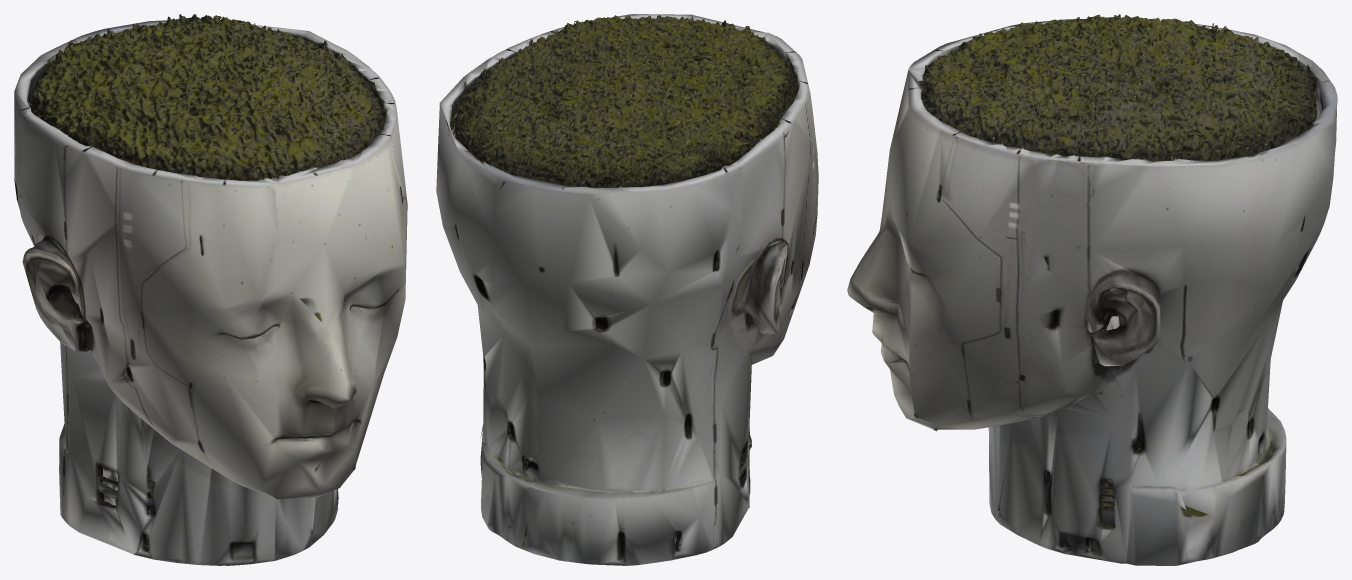
File: sculpture.glb
3 renders of one model, left to right at view 1: azimuth 30°, elevation 25°; view 2: azimuth 150°, elevation 25°; view 3: azimuth 270°, elevation 25°, orthographic. The views are drawn at different scales.
Size of the model in its own units: 1.57 by 2 by 1.94.
1 material, 1 textured.
